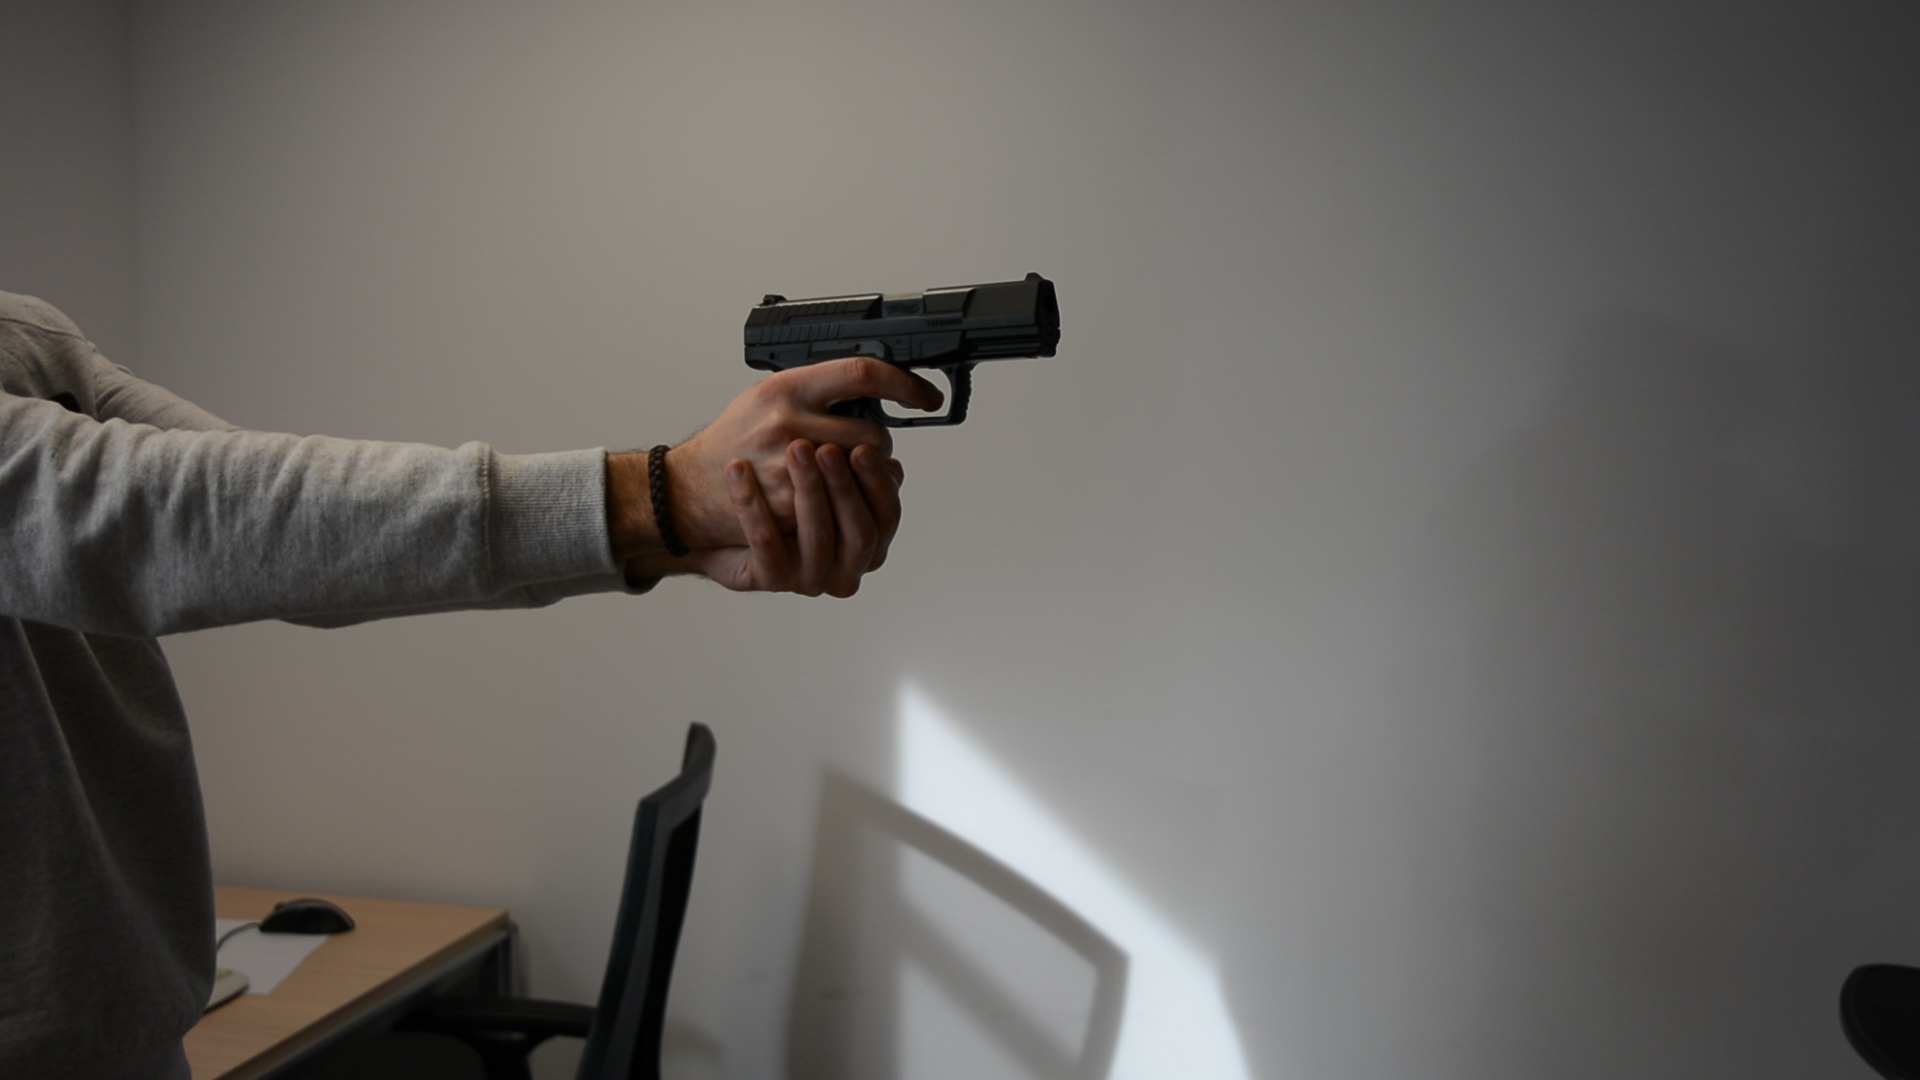pistol: (741, 270, 1062, 434)
